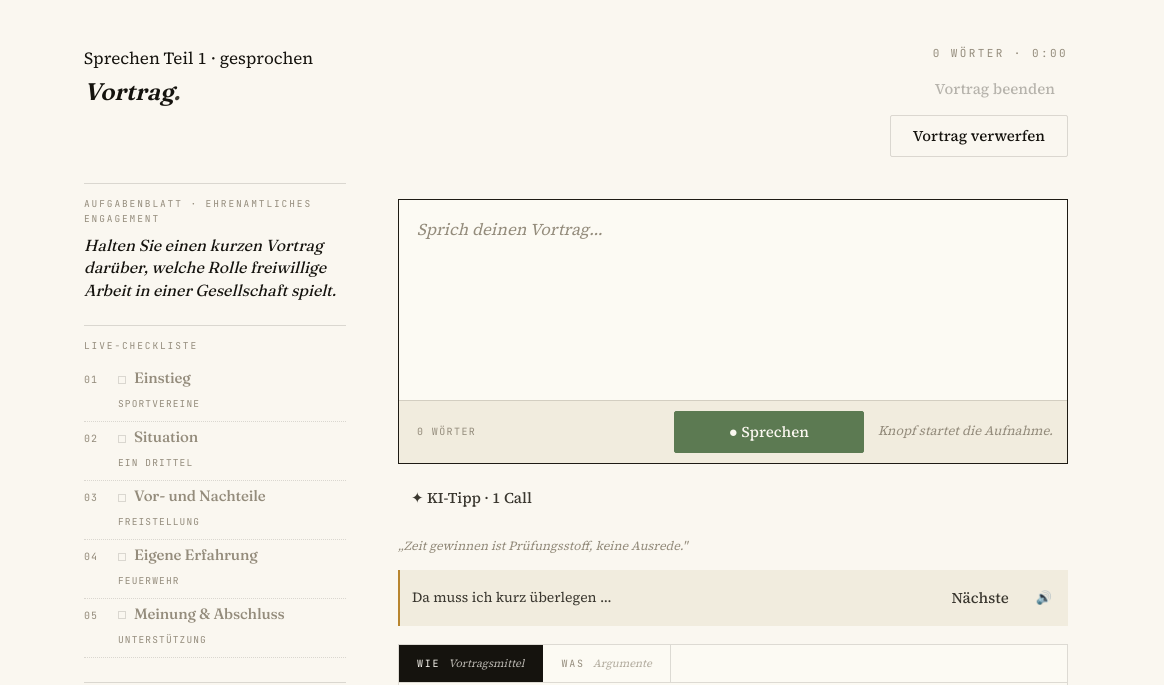
Test: Teil1Runner — Redezeit wall clock and the hard limit (F2) › shows both Redezeit and Gesamt on the rail once the mic has been used
The image size is (1164, 685).
Click the button with class "mic-btn": (769, 432) [674,411,864,453]
(page scrolled)
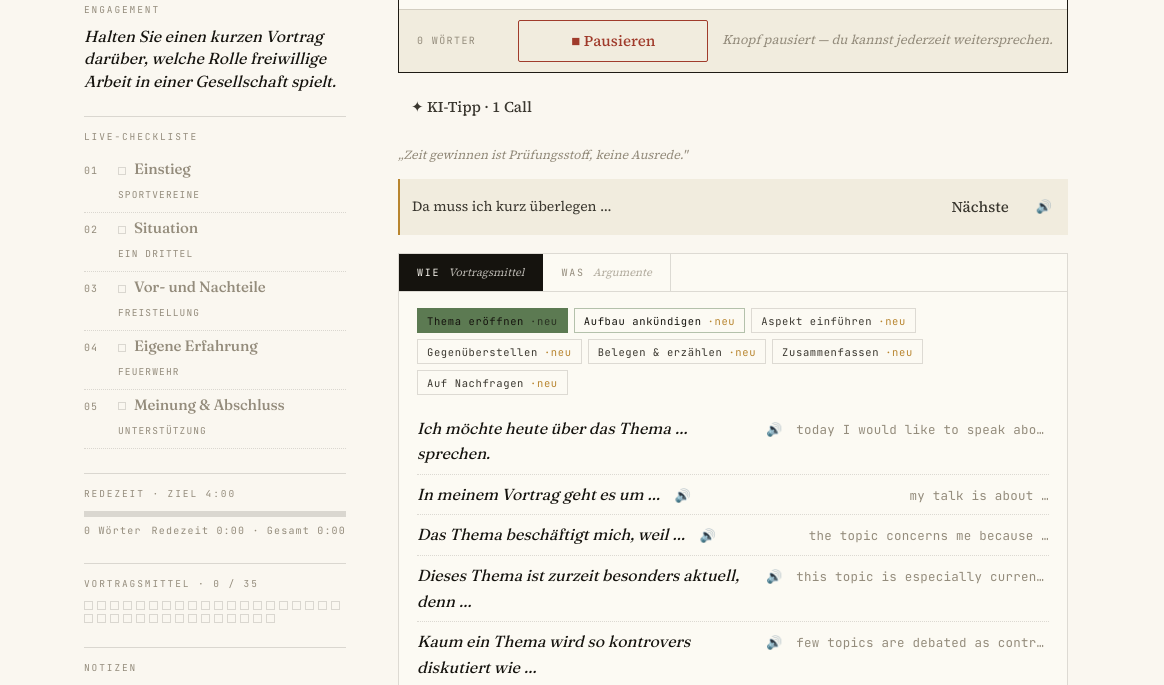
Expected: the element with class "spr-timebar-l" shows "Redezeit", [152,524,245,537]
Expected: the element with class "spr-timebar-l" shows "Gesamt", [245,524,346,537]
